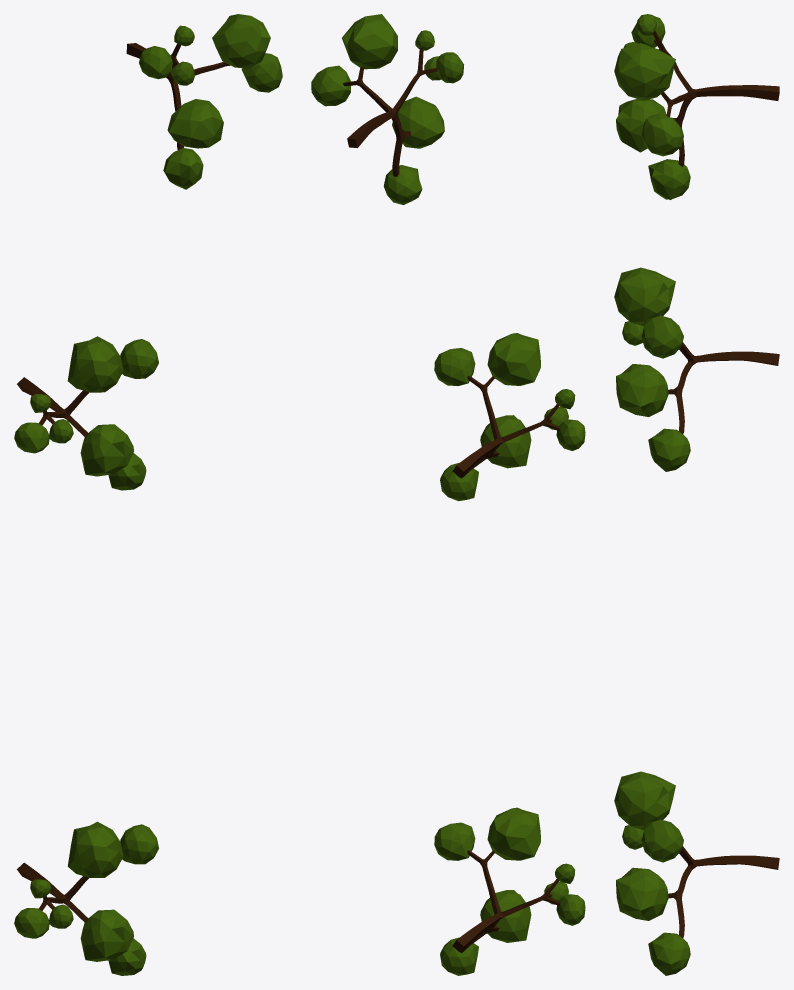
File: tree.obj
3 views of the same model, side by side, from view 1: azimuth 30°, elevation 25°; view 2: azimuth 150°, elevation 25°; view 3: azimuth 270°, elevation 25° (orthographic). The views are drawn at different scales.
Parts seen in each view (by area): view 1: Plane.001; view 2: Plane.001; view 3: Plane.001.
Part boxes in pixels (x1,y1,x2,y2): Plane.001: (14,14,282,975); Plane.001: (311,14,585,975); Plane.001: (614,14,779,975).
Bounding box in the file's own units: 0.4665 × 1.56 × 0.2382.
